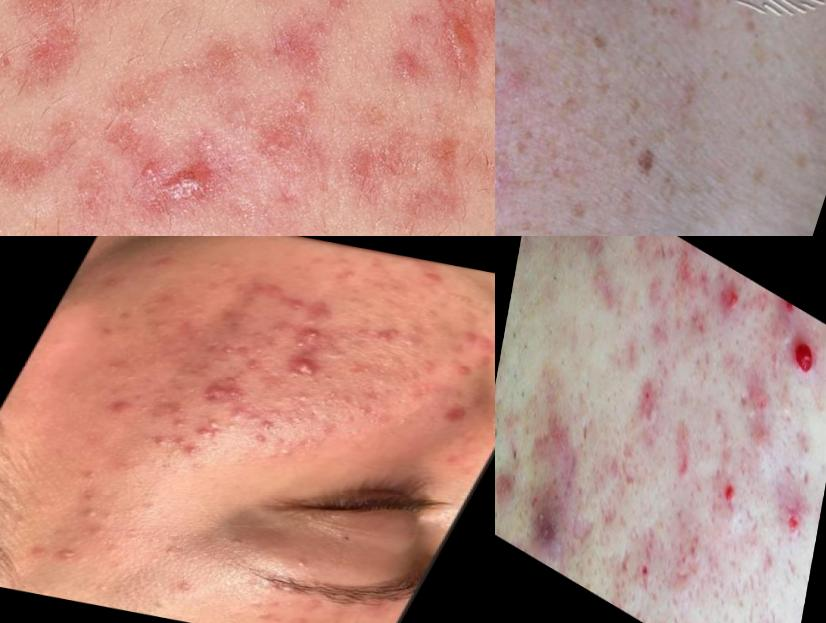keloid: (113, 125, 248, 233), (419, 1, 496, 108), (527, 395, 594, 497), (631, 503, 666, 573), (566, 497, 595, 555), (596, 490, 620, 535)
papular: (286, 299, 345, 333), (429, 401, 476, 428), (365, 324, 412, 351), (96, 395, 137, 417), (155, 401, 196, 423), (466, 328, 496, 353), (447, 327, 484, 347), (209, 341, 246, 361), (445, 362, 479, 381), (416, 269, 449, 288), (281, 297, 312, 314), (239, 359, 267, 375)
purulent: (38, 542, 92, 571), (191, 414, 237, 445), (294, 323, 338, 348), (282, 337, 317, 354), (252, 416, 283, 434), (245, 431, 277, 448), (176, 445, 206, 460), (170, 435, 195, 449), (149, 435, 173, 449), (167, 417, 190, 430)
sebo-crystan-conglo: (516, 477, 572, 566), (181, 376, 249, 409), (272, 354, 334, 383)
whitehead: (60, 502, 129, 542), (387, 318, 436, 358), (235, 592, 293, 623), (285, 549, 335, 579), (158, 575, 203, 604), (283, 387, 323, 409), (222, 401, 260, 423), (329, 392, 362, 411), (442, 291, 481, 307), (317, 387, 344, 405), (333, 269, 363, 285), (98, 275, 125, 292), (469, 304, 496, 320), (345, 295, 367, 308), (420, 308, 442, 321)
